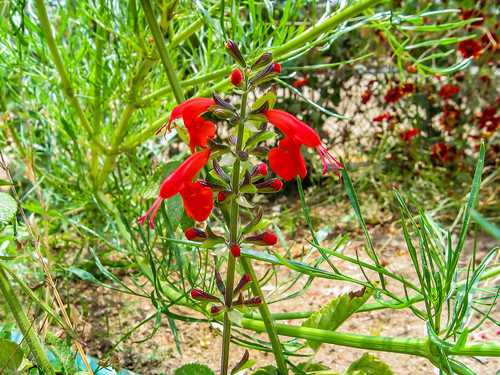flowers: (128, 38, 500, 324)
vegetation: (1, 1, 500, 375)
